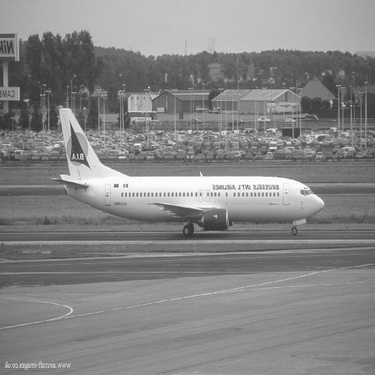airplane: (38, 94, 332, 248)
